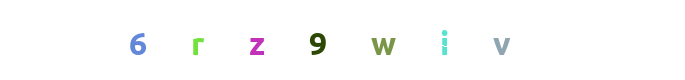6: (97, 0, 177, 80)
9: (282, 0, 362, 80)
I: (382, 0, 462, 80)
R: (217, 0, 297, 80)
V: (404, 0, 484, 80)
W: (303, 0, 383, 80)
Z: (277, 0, 357, 80)
